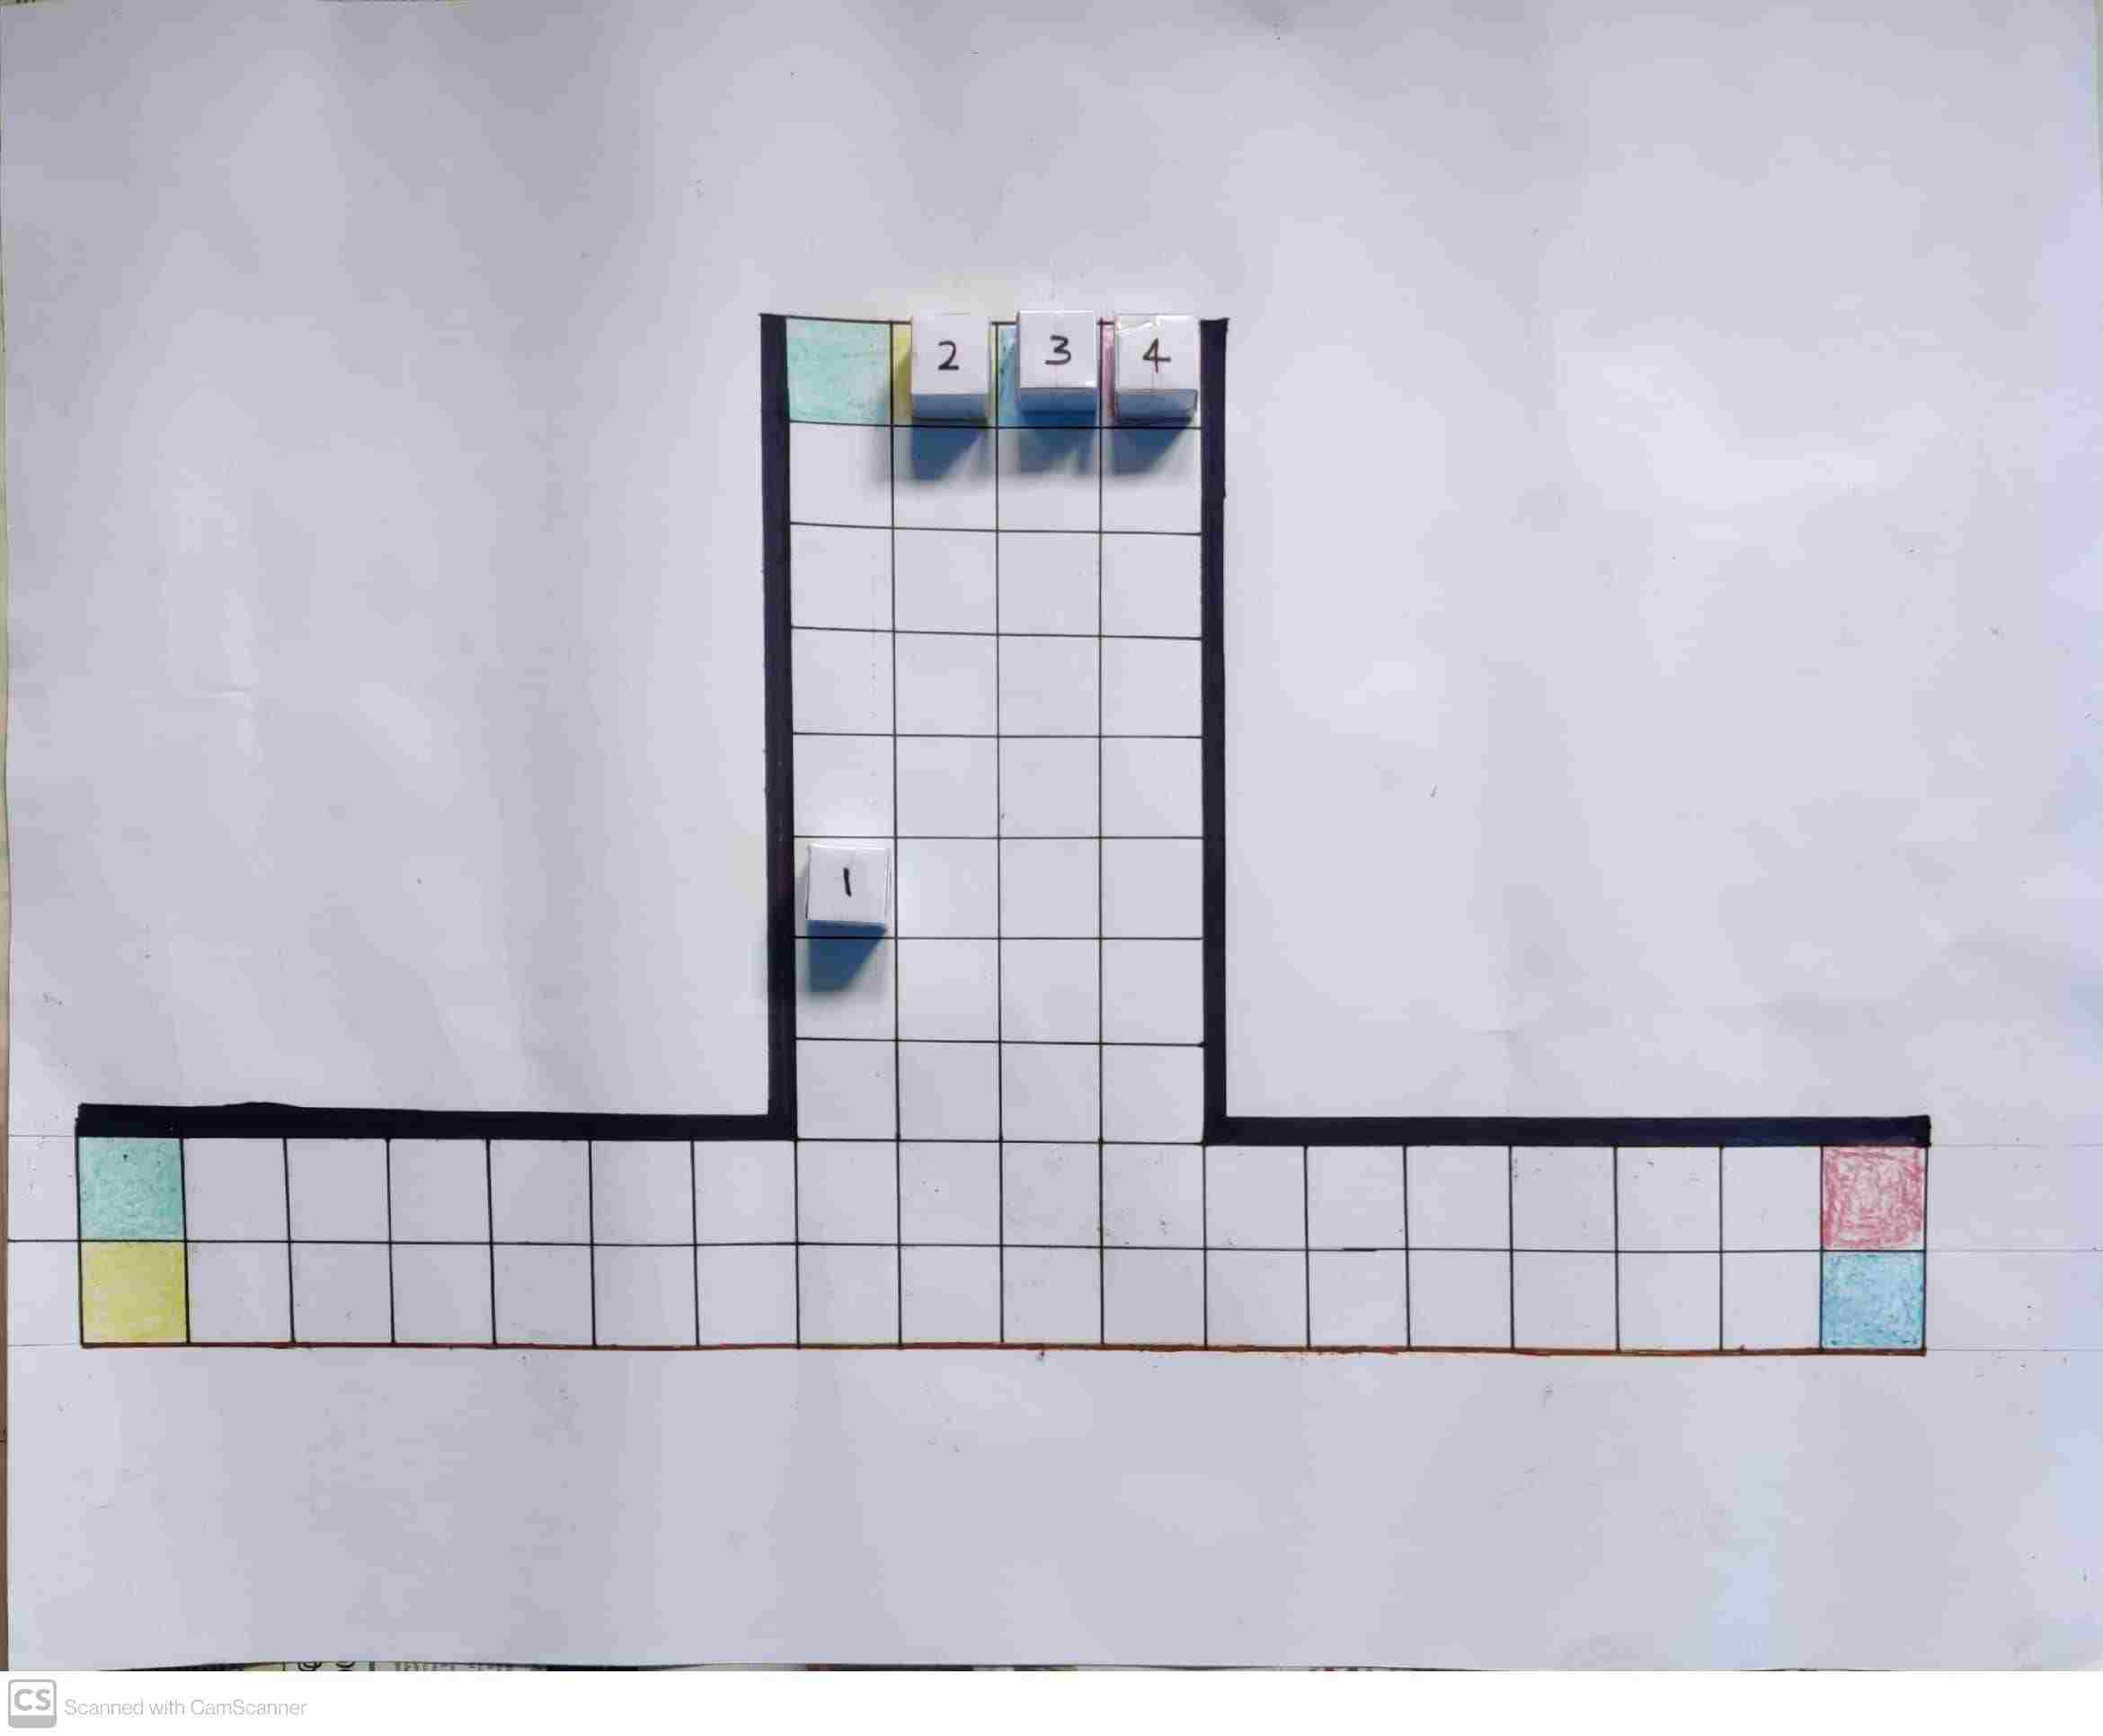arena: (80, 314, 1928, 1348)
bot: (1111, 306, 1202, 389), (910, 309, 990, 398), (809, 842, 887, 929), (1018, 314, 1097, 393)
